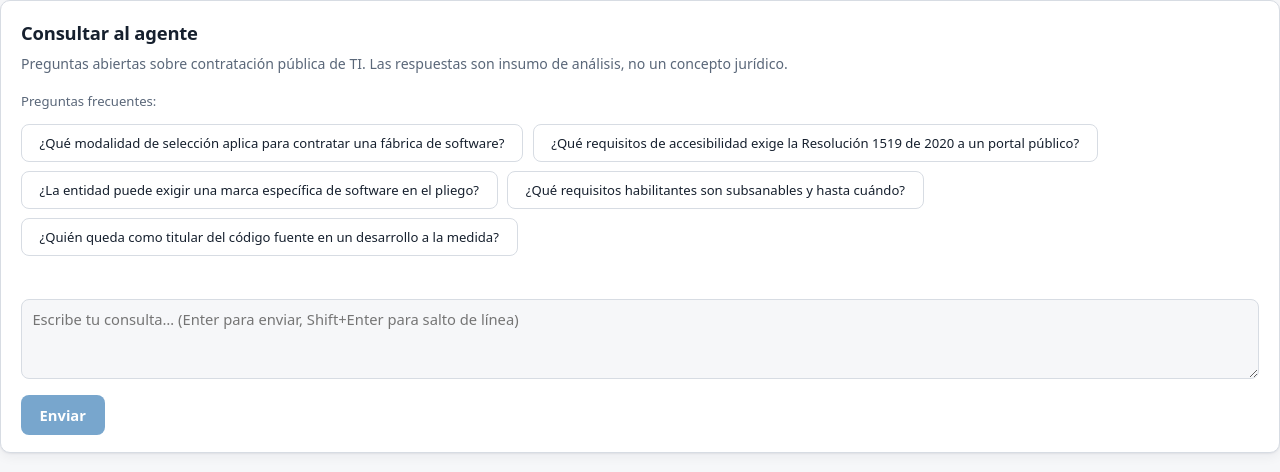
Test: vista Consultar › conserva la respuesta parcial cuando el proveedor falla a mitad
The width and height of the screenshot is (1280, 472).
Type "hola" into the text box labelled "consulta" at x=640, y=339, box left=21, top=299, right=1259, bottom=379
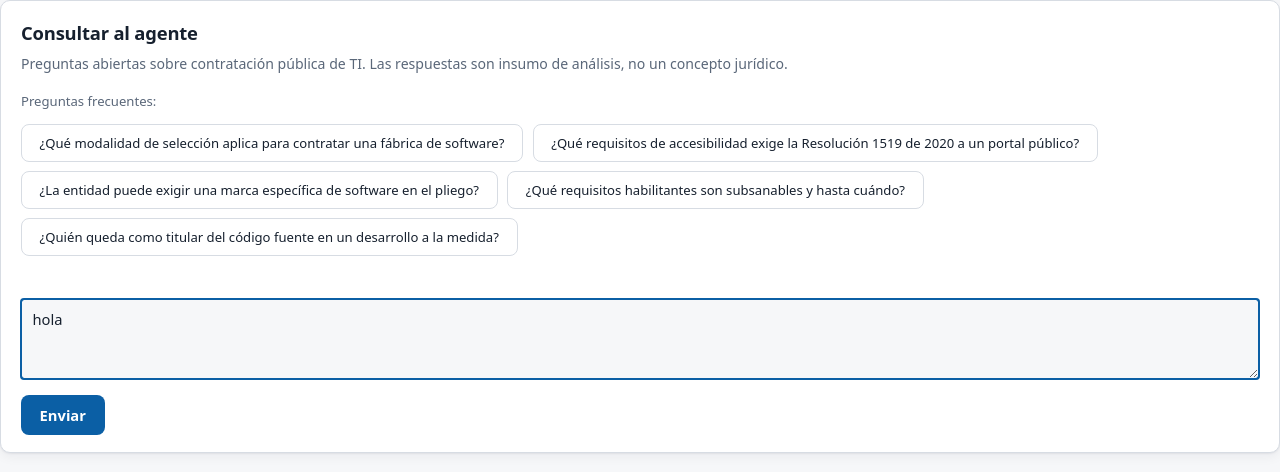
Click the button "Enviar" at x=63, y=415, box left=21, top=395, right=104, bottom=435
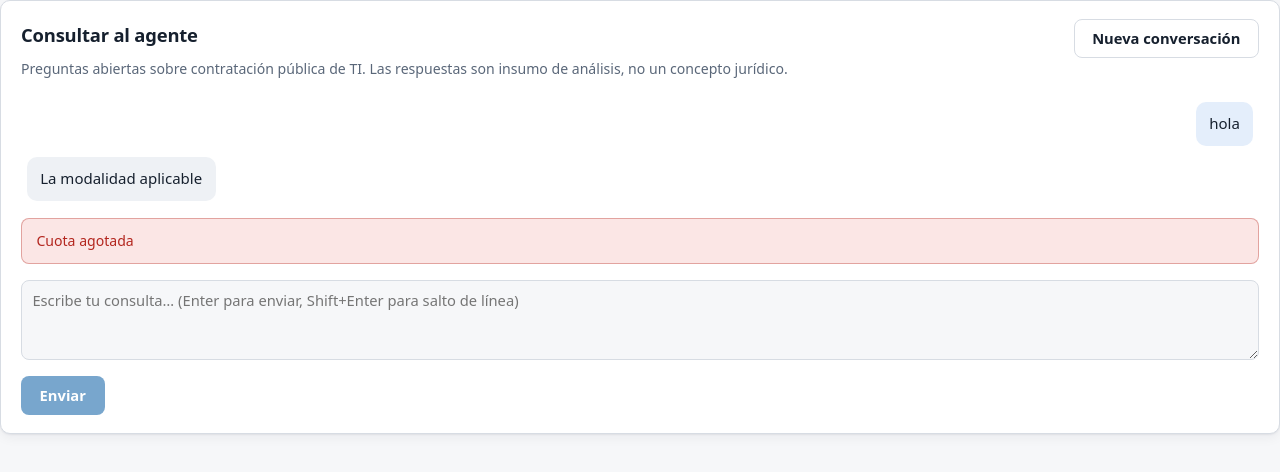
Result: the message reads "Cuota agotada" at left=36, top=231, right=134, bottom=250
Result: the text "La modalidad aplicable" is shown at left=27, top=157, right=216, bottom=201
